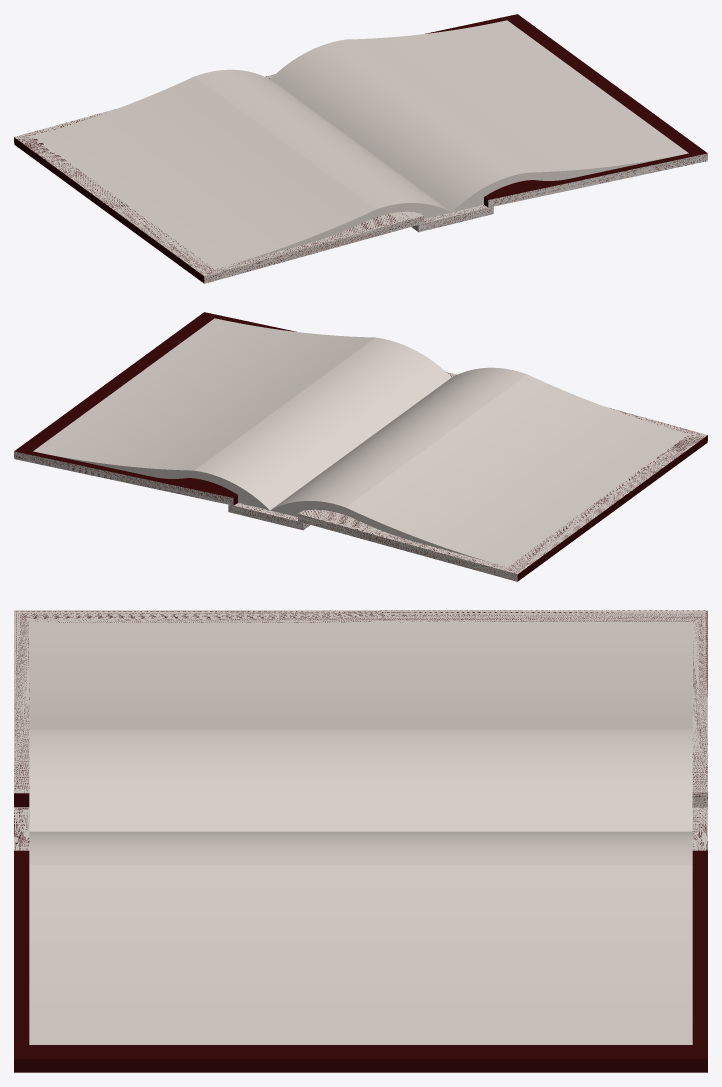
The model's file is openbook.dae.
3 views of the same model, one above another, from view 1: azimuth 30°, elevation 25°; view 2: azimuth 150°, elevation 25°; view 3: azimuth 270°, elevation 25° (orthographic). The views are drawn at different scales.
Parts seen in each view (by area): view 1: SketchUp (×4); view 2: SketchUp (×4); view 3: SketchUp (×3).
Part boxes in pixels (bbox=[...]): SketchUp (×4): bbox=[14, 14, 707, 283]; SketchUp (×4): bbox=[14, 312, 707, 581]; SketchUp (×3): bbox=[14, 610, 707, 1072].
Bounding box in the file's own units: 54.16 × 35.43 × 3.06.
